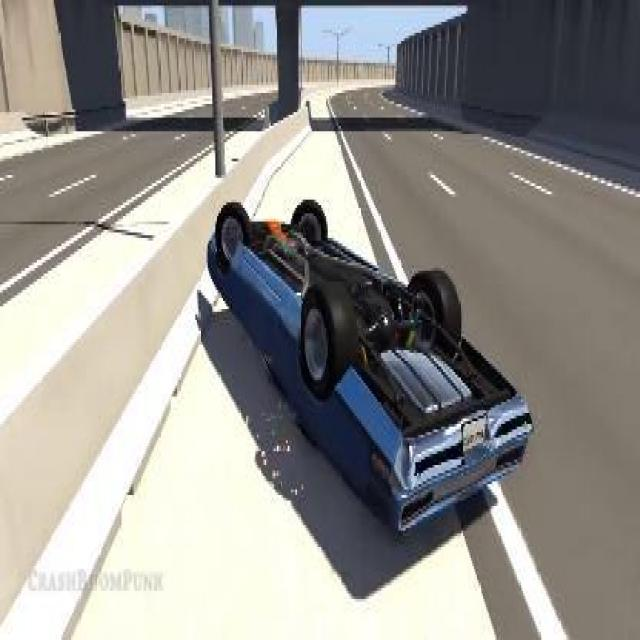accident: (205, 188, 543, 542)
